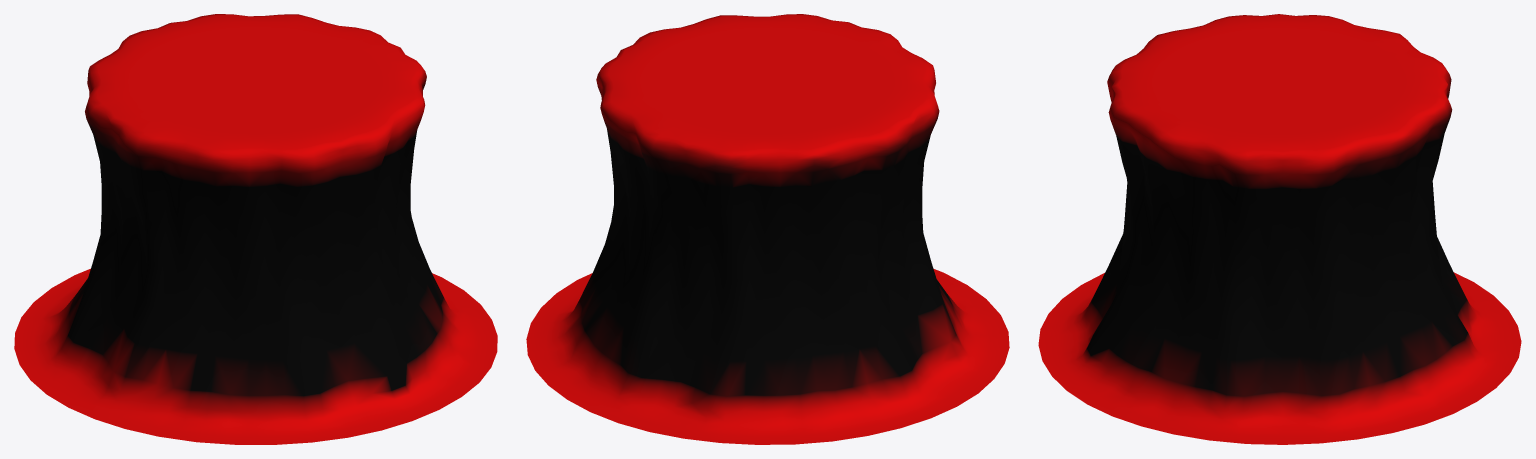
The model's file is GroundObject06A.fbx.
3 views of the same model, side by side, from view 1: azimuth 30°, elevation 25°; view 2: azimuth 150°, elevation 25°; view 3: azimuth 270°, elevation 25° (orthographic).
Parts seen in each view (by area): view 1: GroundObject06A; view 2: GroundObject06A; view 3: GroundObject06A.
Part boxes in pixels (x1,y1,x2,y2): GroundObject06A: (14, 14, 497, 444); GroundObject06A: (526, 14, 1009, 444); GroundObject06A: (1038, 14, 1521, 444).
Bounding box in the file's own units: 3.36 × 2 × 3.35.
